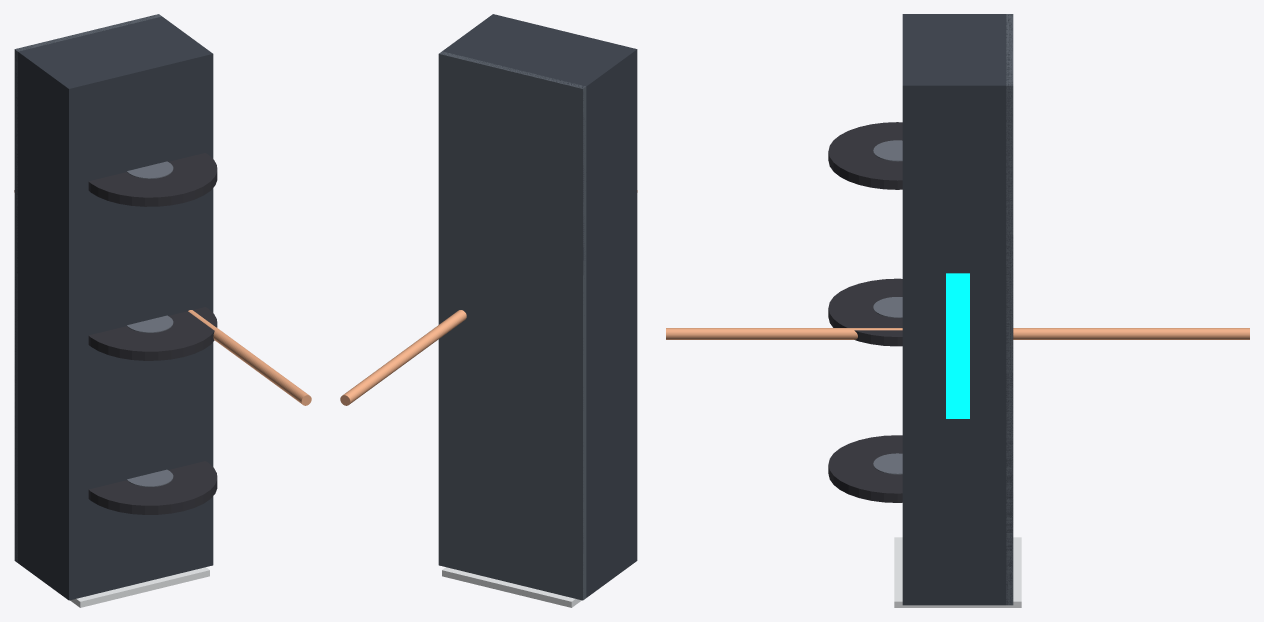
Rendered from gpu_rtx4090.glb.
The picture shows the model from 3 angles, left to right: view 1: azimuth 30°, elevation 25°; view 2: azimuth 150°, elevation 25°; view 3: azimuth 270°, elevation 25°; orthographic projection.
Parts seen in each view (by area): view 1: GPU4090_Shroud, GPU4090_Fan_2, GPU4090_Fan_0, GPU4090_Fan_1, GPU4090_Backplate, GPU4090_Bracket, GPU4090_Pipe_-0.18, GPU4090_Pipe_0.06, GPU4090_Pipe_0.18, GPU4090_Hub_2, GPU4090_Hub_0, GPU4090_Hub_1 (+1 smaller); view 2: GPU4090_Backplate, GPU4090_Shroud, GPU4090_Bracket, GPU4090_Pipe_0.06, GPU4090_Pipe_-0.06, GPU4090_Pipe_0.18; view 3: GPU4090_Shroud, GPU4090_Backplate, GPU4090_Pipe_0.06, GPU4090_Fan_0, GPU4090_Fan_2, GPU4090_SideLogo, GPU4090_Fan_1, GPU4090_Pipe_0.18, GPU4090_Bracket, GPU4090_Pipe_-0.06, GPU4090_Pipe_-0.18.
Boxes of the visible parts, box(x1,y1,x2,y2) form: GPU4090_Shroud: box(14, 15, 213, 600); GPU4090_Fan_2: box(88, 153, 217, 206); GPU4090_Fan_0: box(88, 461, 217, 514); GPU4090_Fan_1: box(88, 307, 217, 360); GPU4090_Backplate: box(14, 14, 161, 562); GPU4090_Bracket: box(70, 567, 209, 607); GPU4090_Pipe_-0.18: box(201, 319, 311, 405); GPU4090_Pipe_0.06: box(189, 310, 288, 385); GPU4090_Pipe_0.18: box(14, 190, 276, 379); GPU4090_Hub_2: box(127, 161, 173, 178); GPU4090_Hub_0: box(127, 469, 173, 486); GPU4090_Hub_1: box(127, 315, 173, 332); GPU4090_Backplate: box(438, 51, 586, 600); GPU4090_Shroud: box(440, 14, 637, 597); GPU4090_Bracket: box(442, 567, 581, 607); GPU4090_Pipe_0.06: box(353, 310, 466, 395); GPU4090_Pipe_-0.06: box(364, 310, 466, 383); GPU4090_Pipe_0.18: box(340, 312, 464, 405); GPU4090_Shroud: box(902, 14, 1013, 605); GPU4090_Backplate: box(1006, 14, 1013, 605); GPU4090_Pipe_0.06: box(707, 328, 1229, 339); GPU4090_Fan_0: box(828, 435, 902, 502); GPU4090_Fan_2: box(828, 122, 902, 189); GPU4090_SideLogo: box(946, 273, 969, 418); GPU4090_Fan_1: box(828, 278, 902, 346); GPU4090_Pipe_0.18: box(728, 328, 1249, 339); GPU4090_Bracket: box(894, 537, 1021, 607); GPU4090_Pipe_-0.06: box(686, 328, 1207, 339); GPU4090_Pipe_-0.18: box(666, 328, 1187, 339).
Bounding box in the file's own units: 1 × 3.36 × 3.38.
